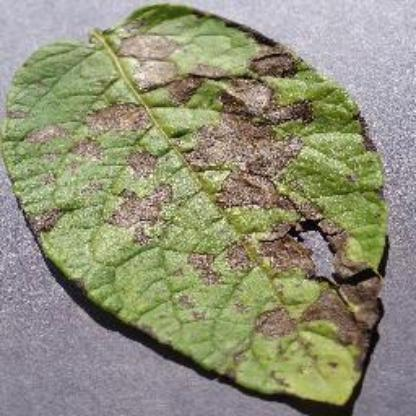Early-Blight: (5, 5, 399, 410)
